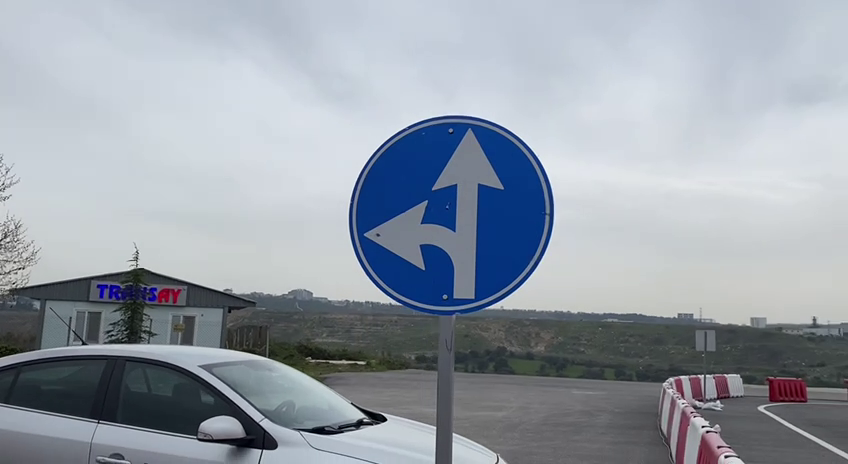forwardAndLeft: (343, 111, 561, 320)
